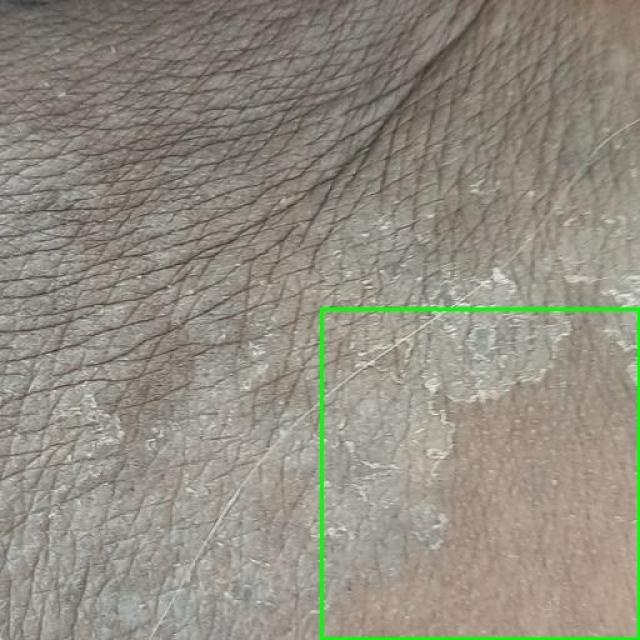Eczema: (321, 309, 639, 639)
